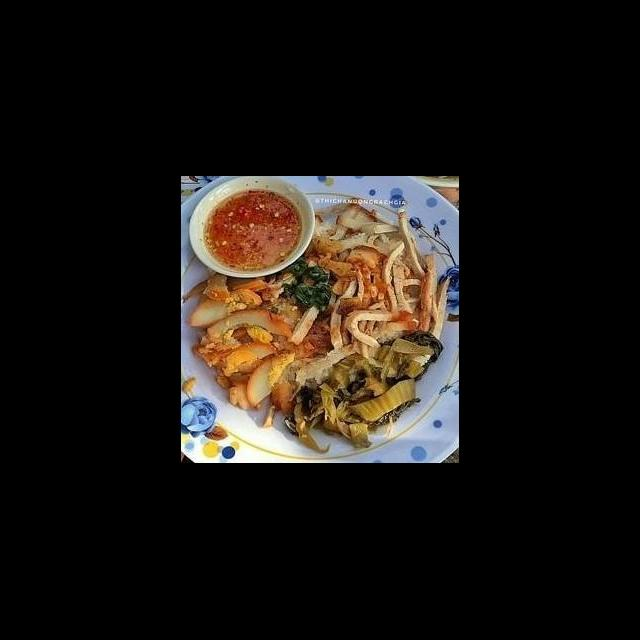com suon trung: (191, 192, 459, 463)
dua chua: (282, 329, 446, 456)
suon: (311, 200, 454, 370)
trung: (188, 272, 297, 412)
